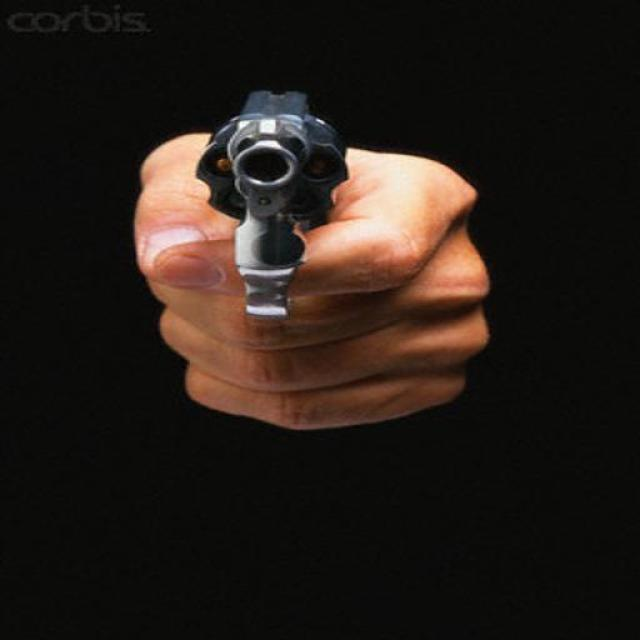pistol: (194, 84, 364, 324)
